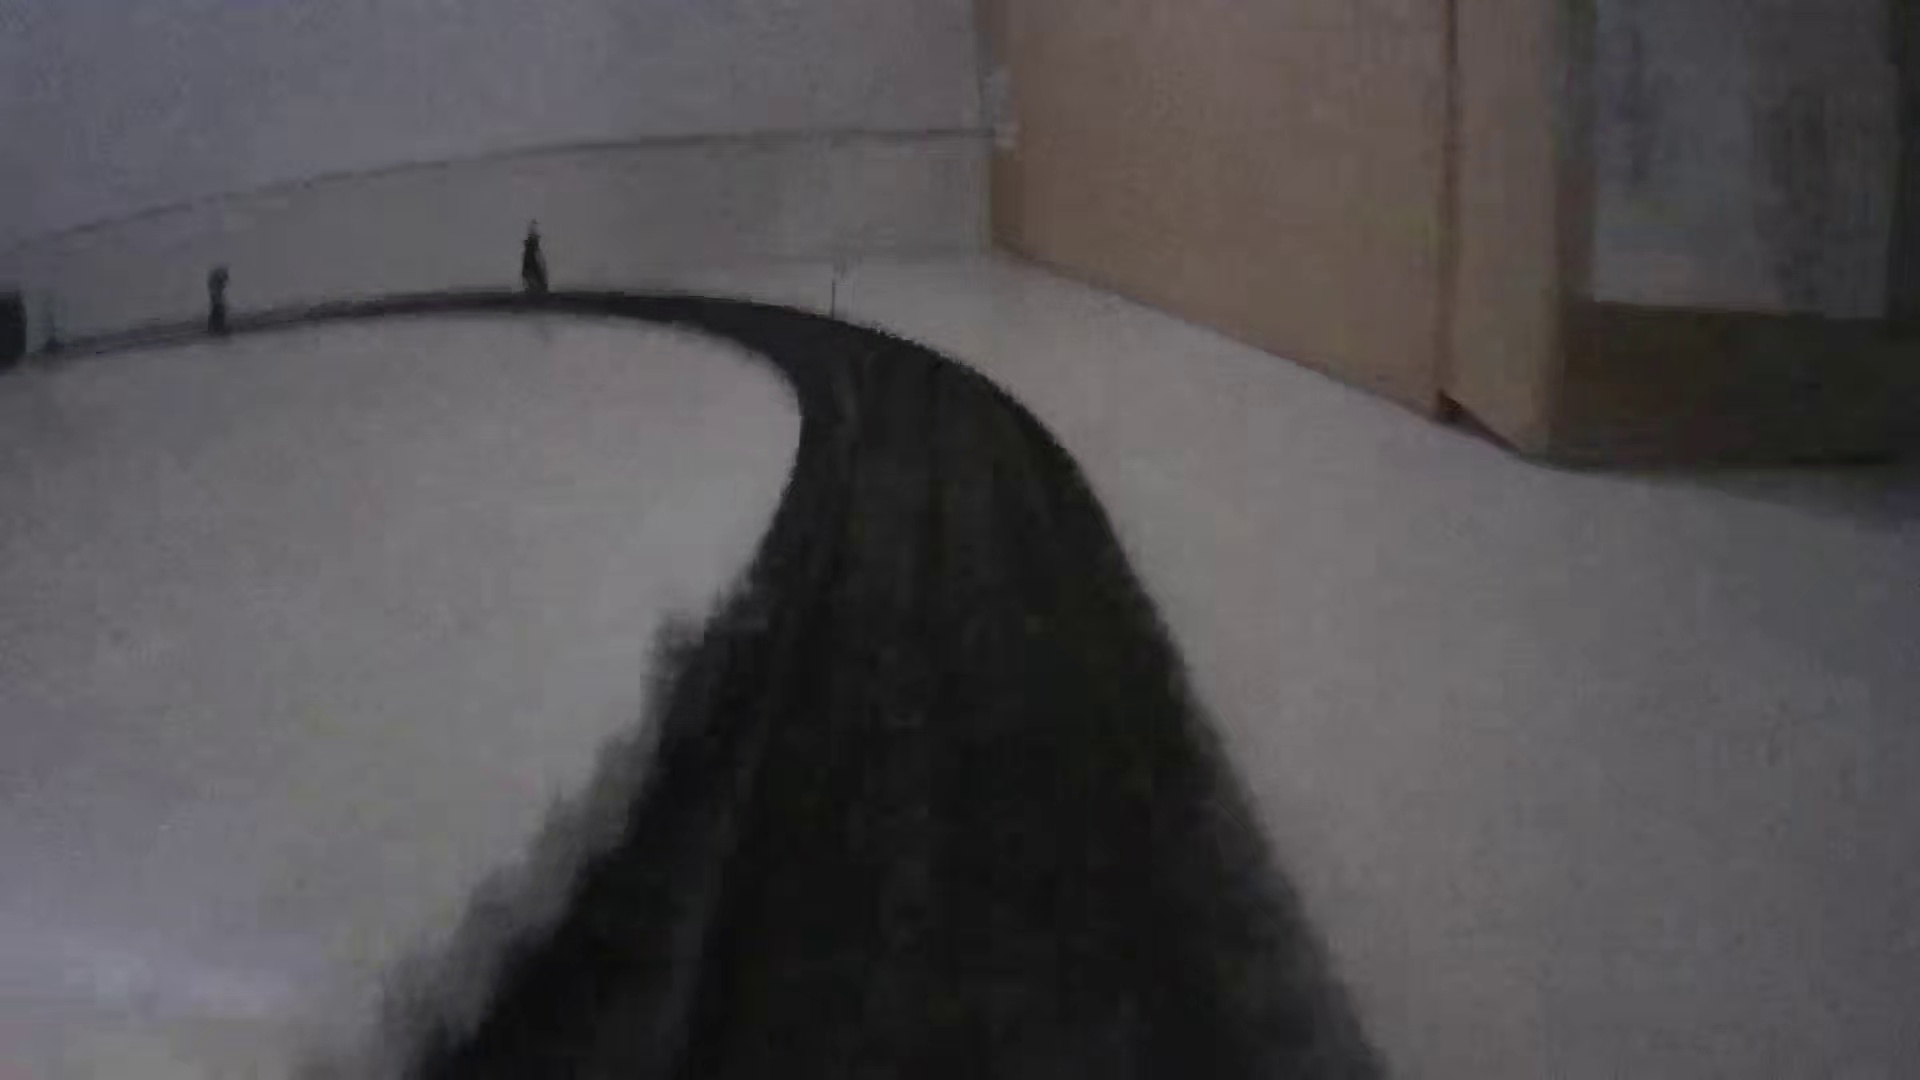people: (521, 224, 556, 301), (205, 262, 236, 337)
